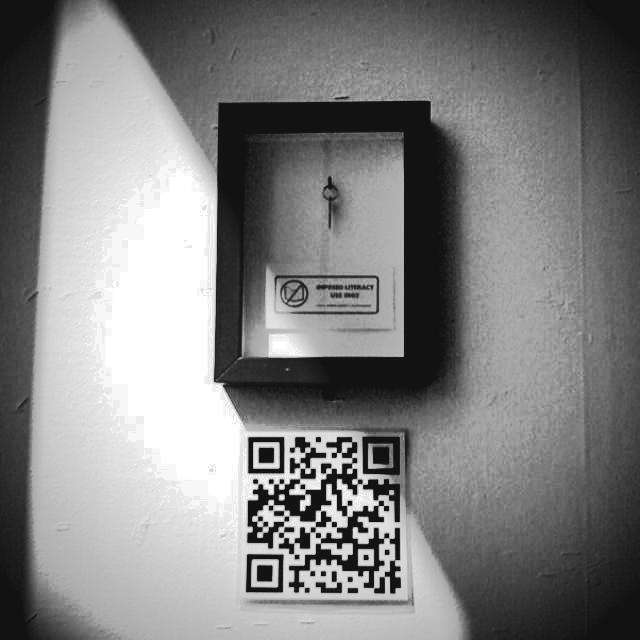qr_code: (246, 437, 400, 593)
